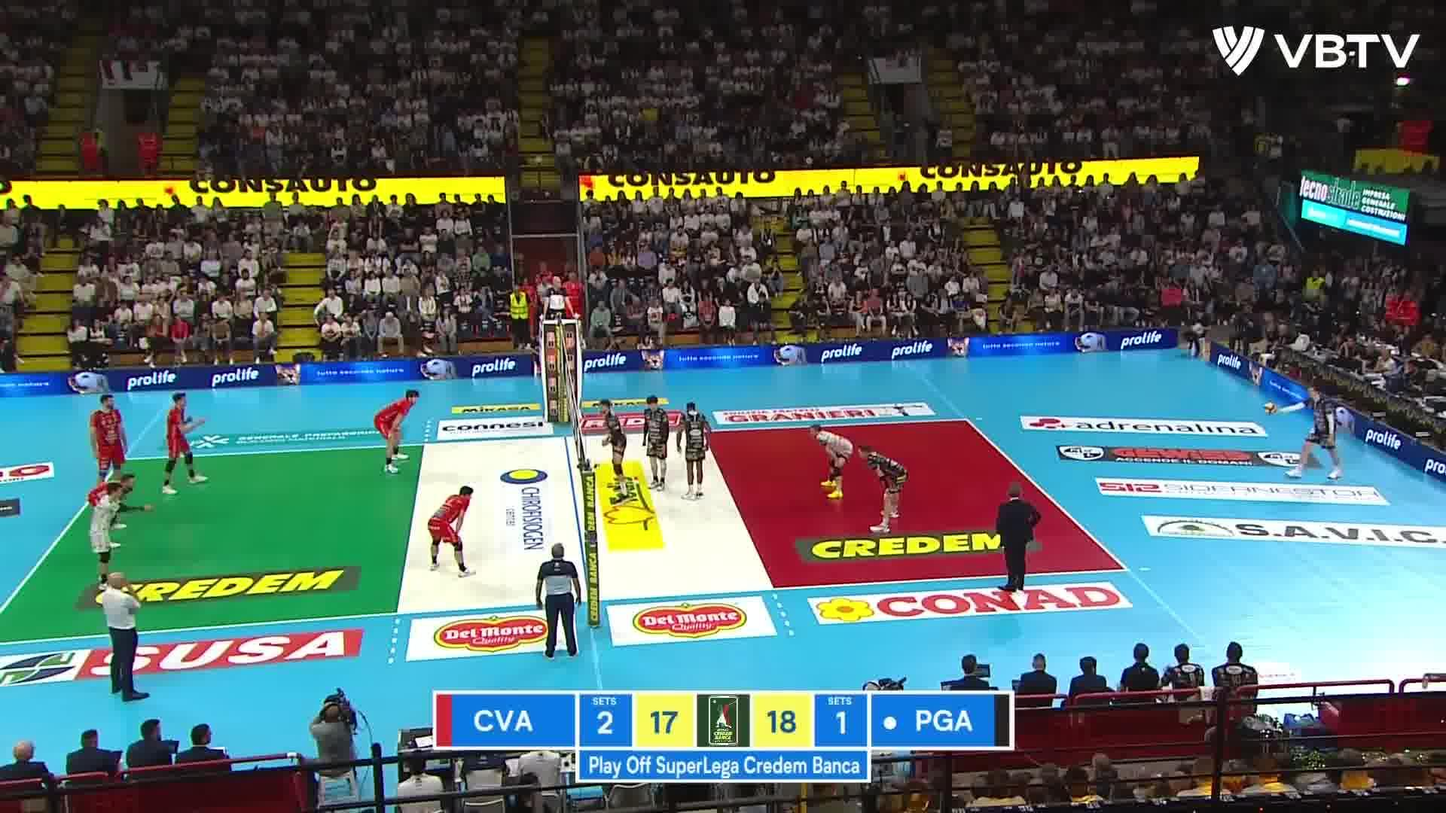balls: (1261, 398, 1280, 417)
